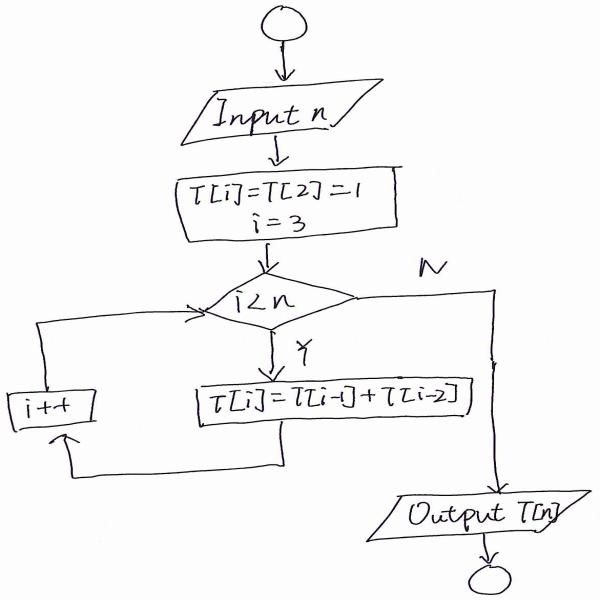arrow: (357, 286, 538, 496), (21, 296, 204, 392), (50, 423, 299, 489), (260, 324, 288, 381), (262, 136, 297, 172), (250, 240, 284, 276), (270, 38, 296, 82), (470, 536, 508, 566)
data: (173, 74, 393, 149), (364, 486, 591, 543)
decision: (189, 267, 359, 333)
process: (175, 166, 410, 244), (190, 377, 480, 423), (3, 382, 104, 436)
terminator: (258, 1, 321, 48), (458, 559, 527, 598)
text: (209, 382, 462, 410), (407, 496, 570, 532), (209, 89, 328, 131), (186, 179, 369, 204), (229, 286, 300, 314), (243, 208, 316, 234), (19, 392, 79, 423), (291, 338, 327, 368), (415, 257, 453, 281)
